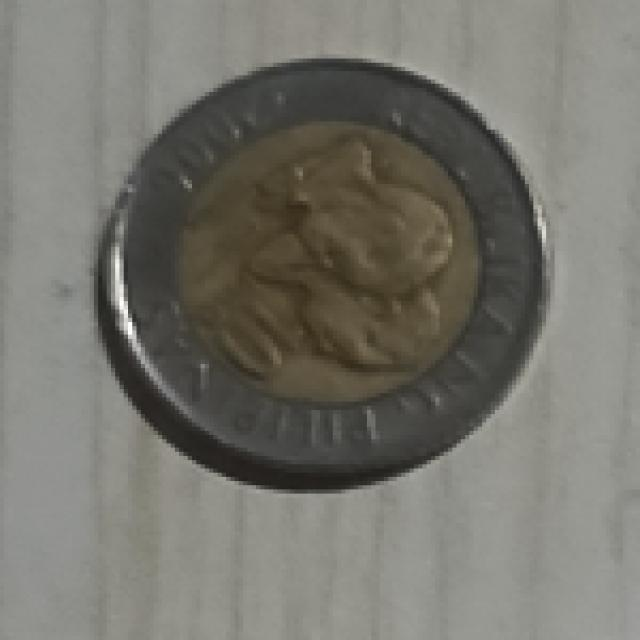10_peso: (98, 59, 546, 481)
